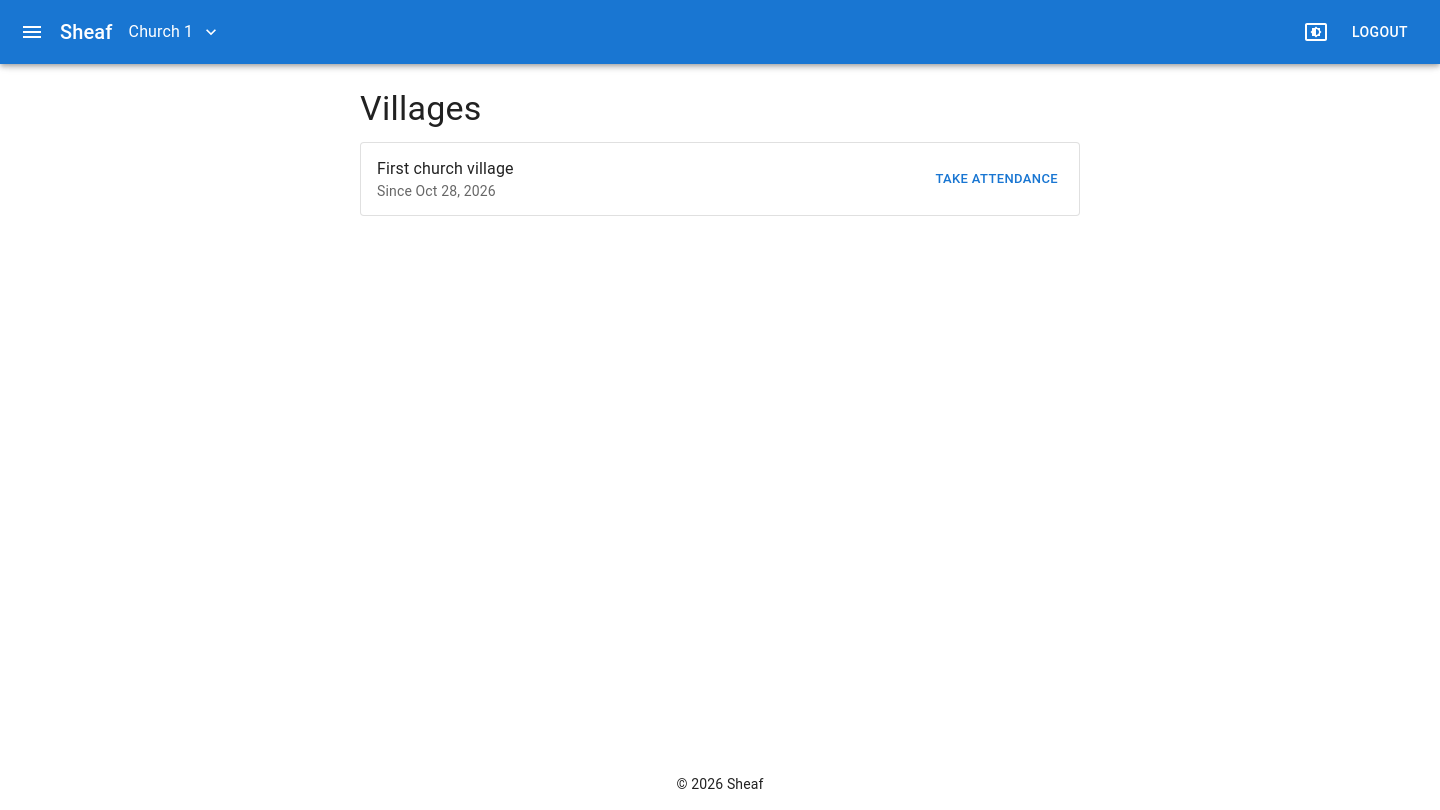
Test: Groups › Groups_AfterSwitchingChurch_ShowsOnlyTheNewChurchsGroupsAndLabels
Later steps or results of the test are not shown.
Check: the text "First church village" is shown, box [377,159,514,178]
Click the button with aria-label "Church 1, switch church": {"x": 173, "y": 32} [121,12,225,52]
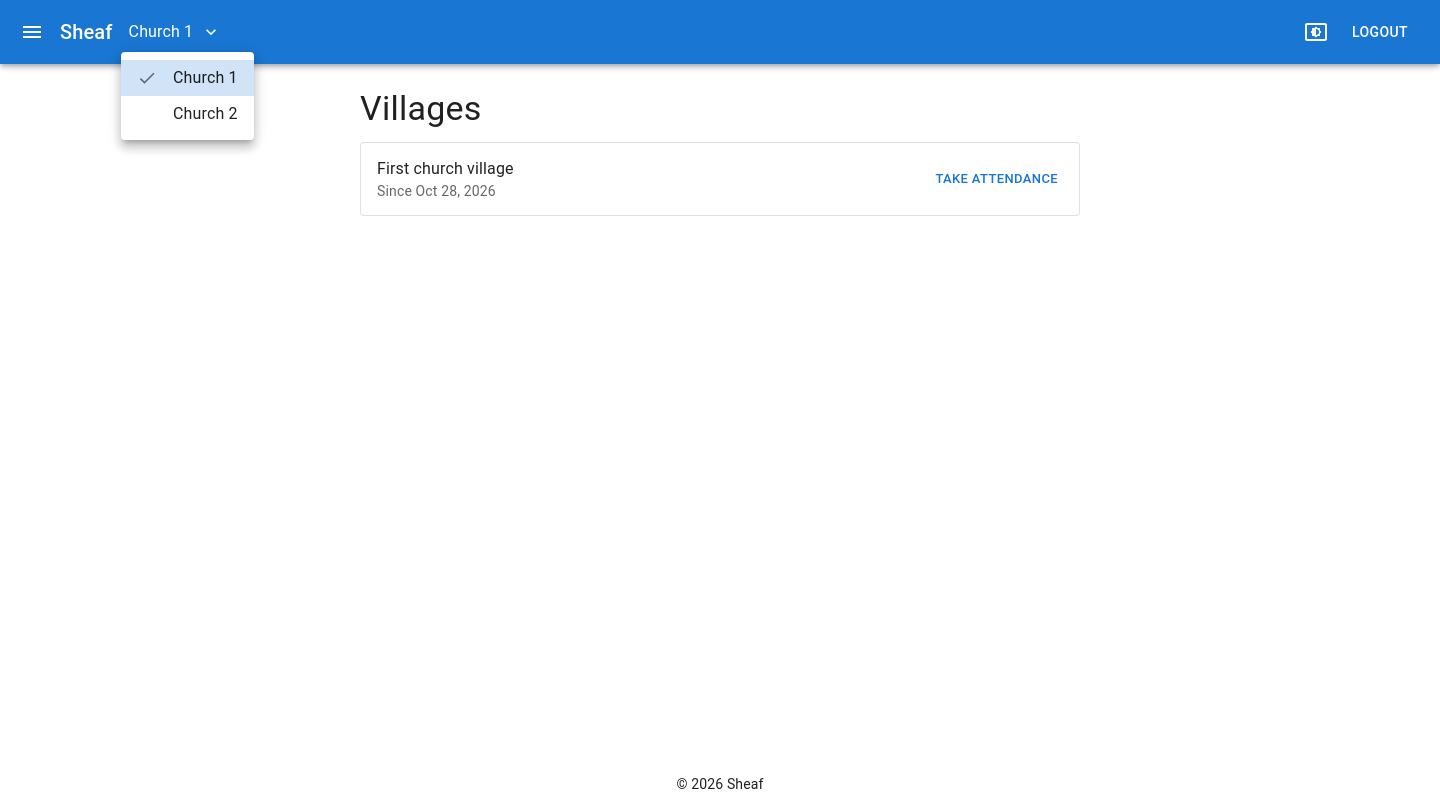
Click the menu item "Church 2": {"x": 205, "y": 114} [173,104,238,123]
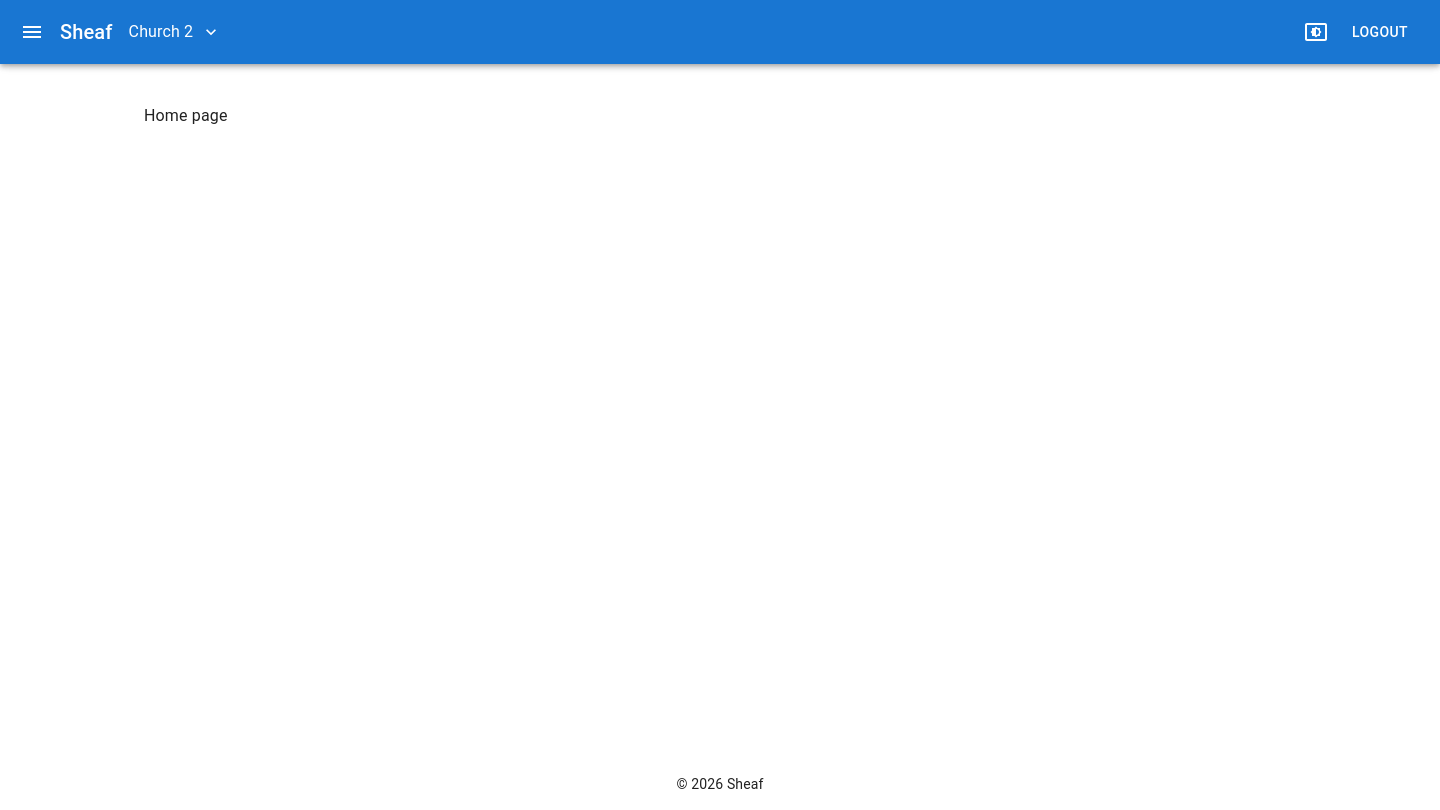
Click the button named "Open navigation": {"x": 32, "y": 32} [12,12,52,52]
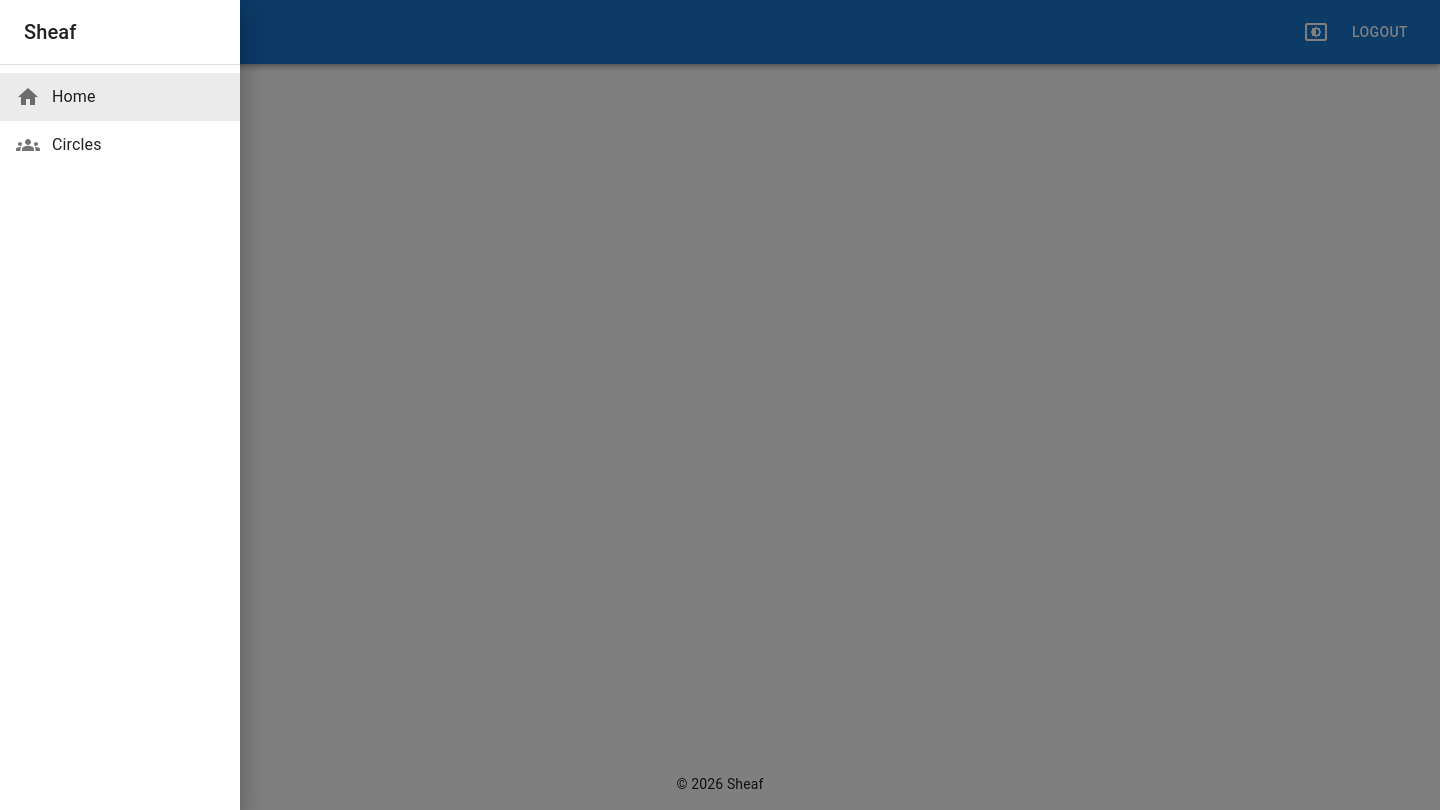
Click the link "Circles": {"x": 59, "y": 145} [16,133,102,157]
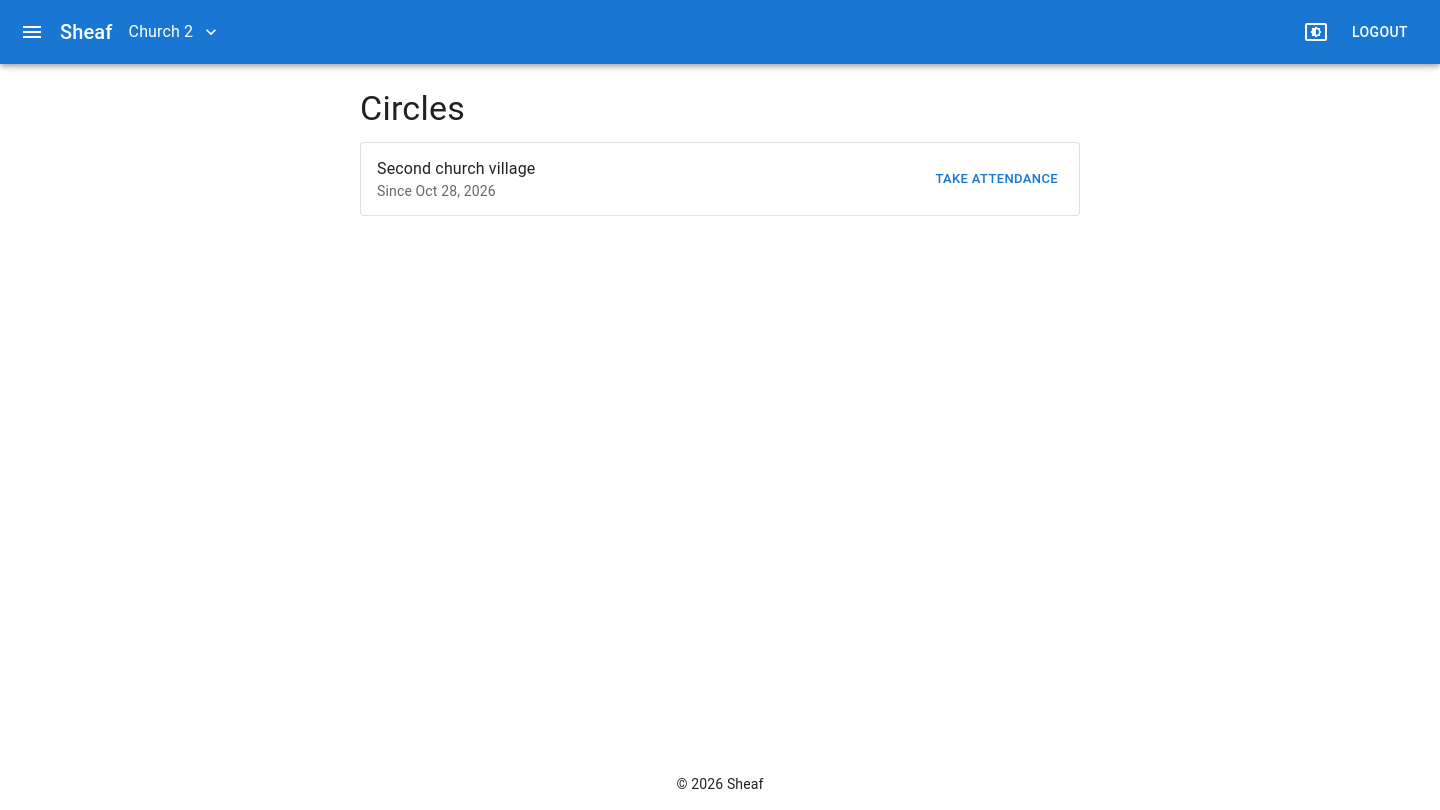
Check: the text "First church village" is not shown
Check: the heading "Circles" is shown, box [360,88,465,128]
Check: the text "Second church village" is shown, box [377,159,536,178]
